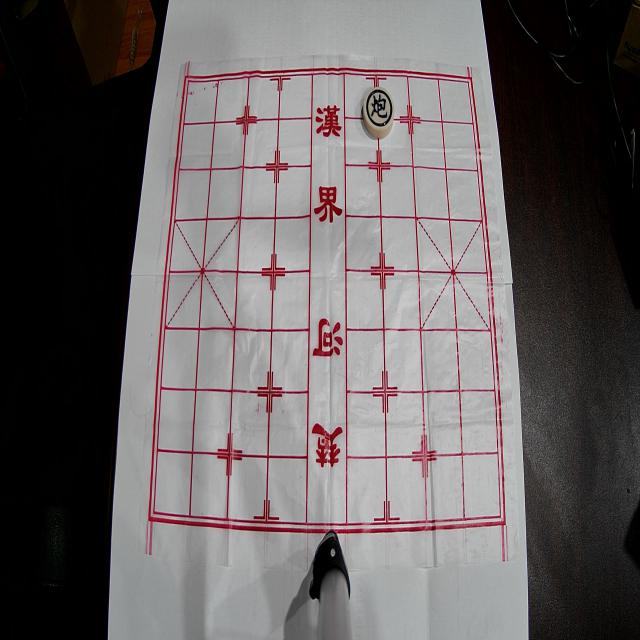black-cannon: (364, 87, 394, 138)
